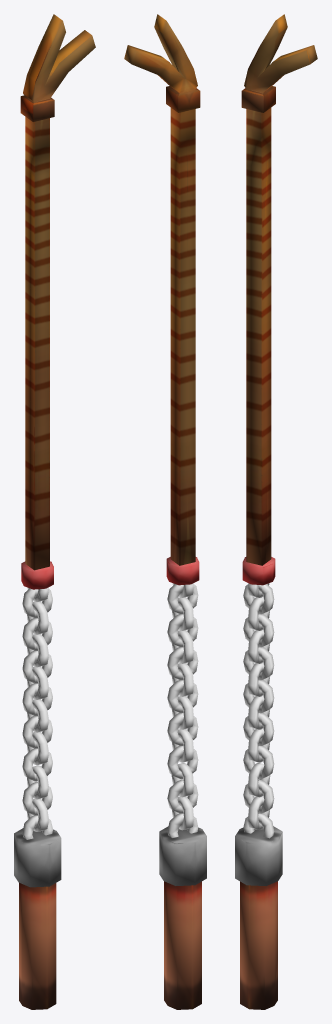
Rendered from WhipFlail1.fbx.
3 renders of one model, left to right at view 1: azimuth 30°, elevation 25°; view 2: azimuth 210°, elevation 25°; view 3: azimuth 330°, elevation 25°, orthographic.
Visible parts, largest first — view 1: Cube.006, Chain.015, Cube.003; view 2: Cube.006, Chain.015, Cube.003; view 3: Cube.006, Chain.015, Cube.003.
Boxes of the visible parts, x1,y1,x2,y2 form: Cube.006: [20, 14, 95, 570]; Chain.015: [14, 587, 61, 1009]; Cube.003: [21, 561, 53, 589]; Cube.006: [124, 14, 200, 565]; Chain.015: [159, 583, 206, 1009]; Cube.003: [166, 557, 199, 585]; Cube.006: [241, 14, 317, 565]; Chain.015: [235, 583, 282, 1009]; Cube.003: [242, 557, 275, 585].
Bounding box in the file's own units: 47.27 × 601 × 26.94.
Materials: 5 (4 with a texture image).
